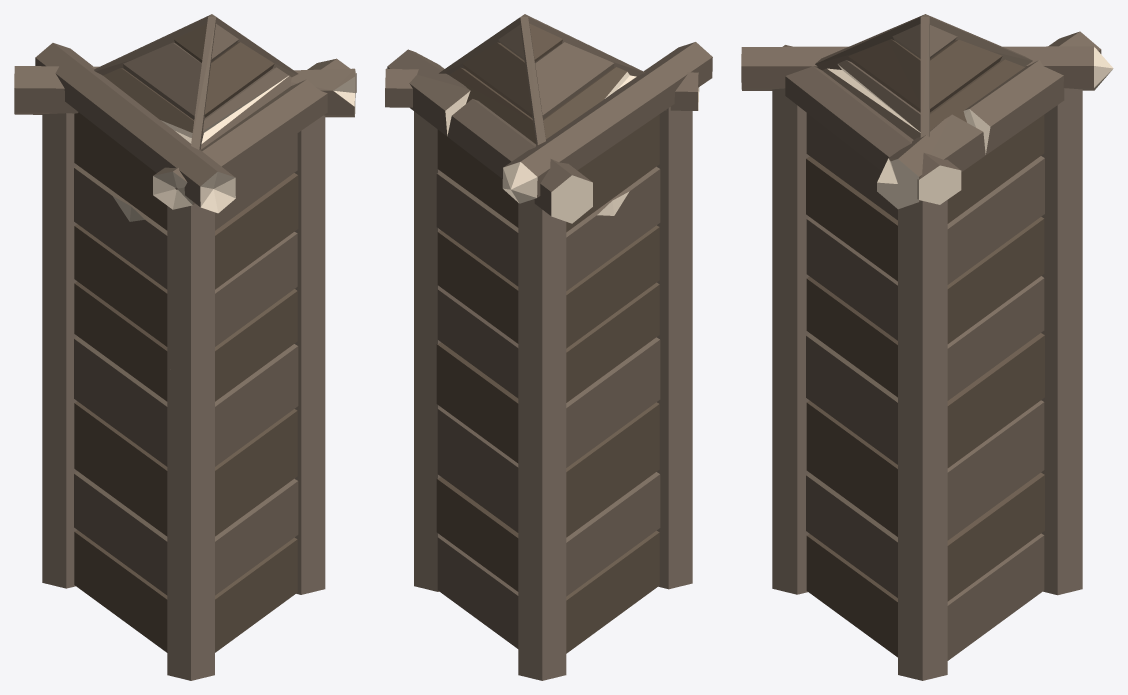
The model's file is PROPS_FULL.fbx.
The picture shows the model from 3 angles, left to right: view 1: azimuth 30°, elevation 25°; view 2: azimuth 150°, elevation 25°; view 3: azimuth 270°, elevation 25°; orthographic projection. The views are drawn at different scales.
Visible parts, largest first — view 1: PROPS_OSNOVA_01, PROPS_UP_01; view 2: PROPS_OSNOVA_01, PROPS_UP_01; view 3: PROPS_OSNOVA_01, PROPS_UP_01.
Part boxes in pixels (left/top/right/bottom): PROPS_OSNOVA_01: left=42, top=276, right=325, bottom=680; PROPS_UP_01: left=14, top=14, right=356, bottom=374; PROPS_OSNOVA_01: left=414, top=278, right=692, bottom=680; PROPS_UP_01: left=385, top=14, right=712, bottom=375; PROPS_OSNOVA_01: left=772, top=271, right=1082, bottom=680; PROPS_UP_01: left=741, top=14, right=1113, bottom=363.
Size of the model in its own units: 499 by 1020 by 566.
